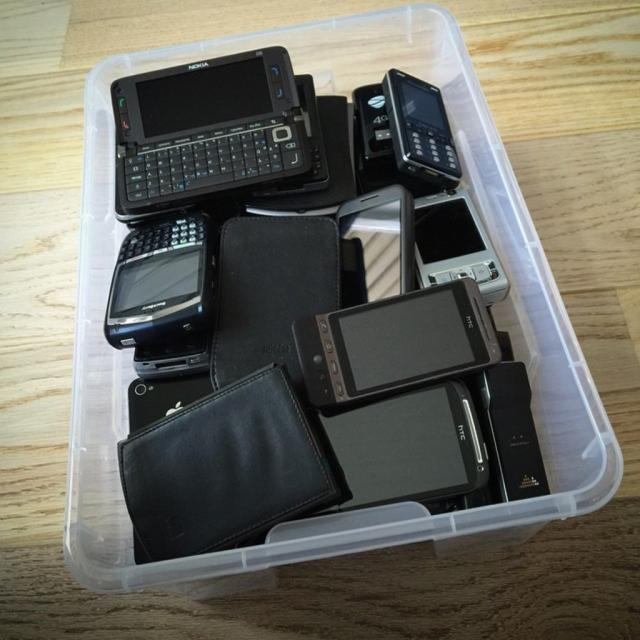Mobile-phone: (111, 43, 315, 216), (284, 276, 502, 411), (310, 378, 490, 517), (104, 218, 213, 350), (412, 185, 511, 305), (246, 70, 333, 197), (335, 184, 417, 310), (378, 65, 460, 187), (126, 371, 214, 434), (350, 80, 397, 165), (131, 334, 210, 376)
